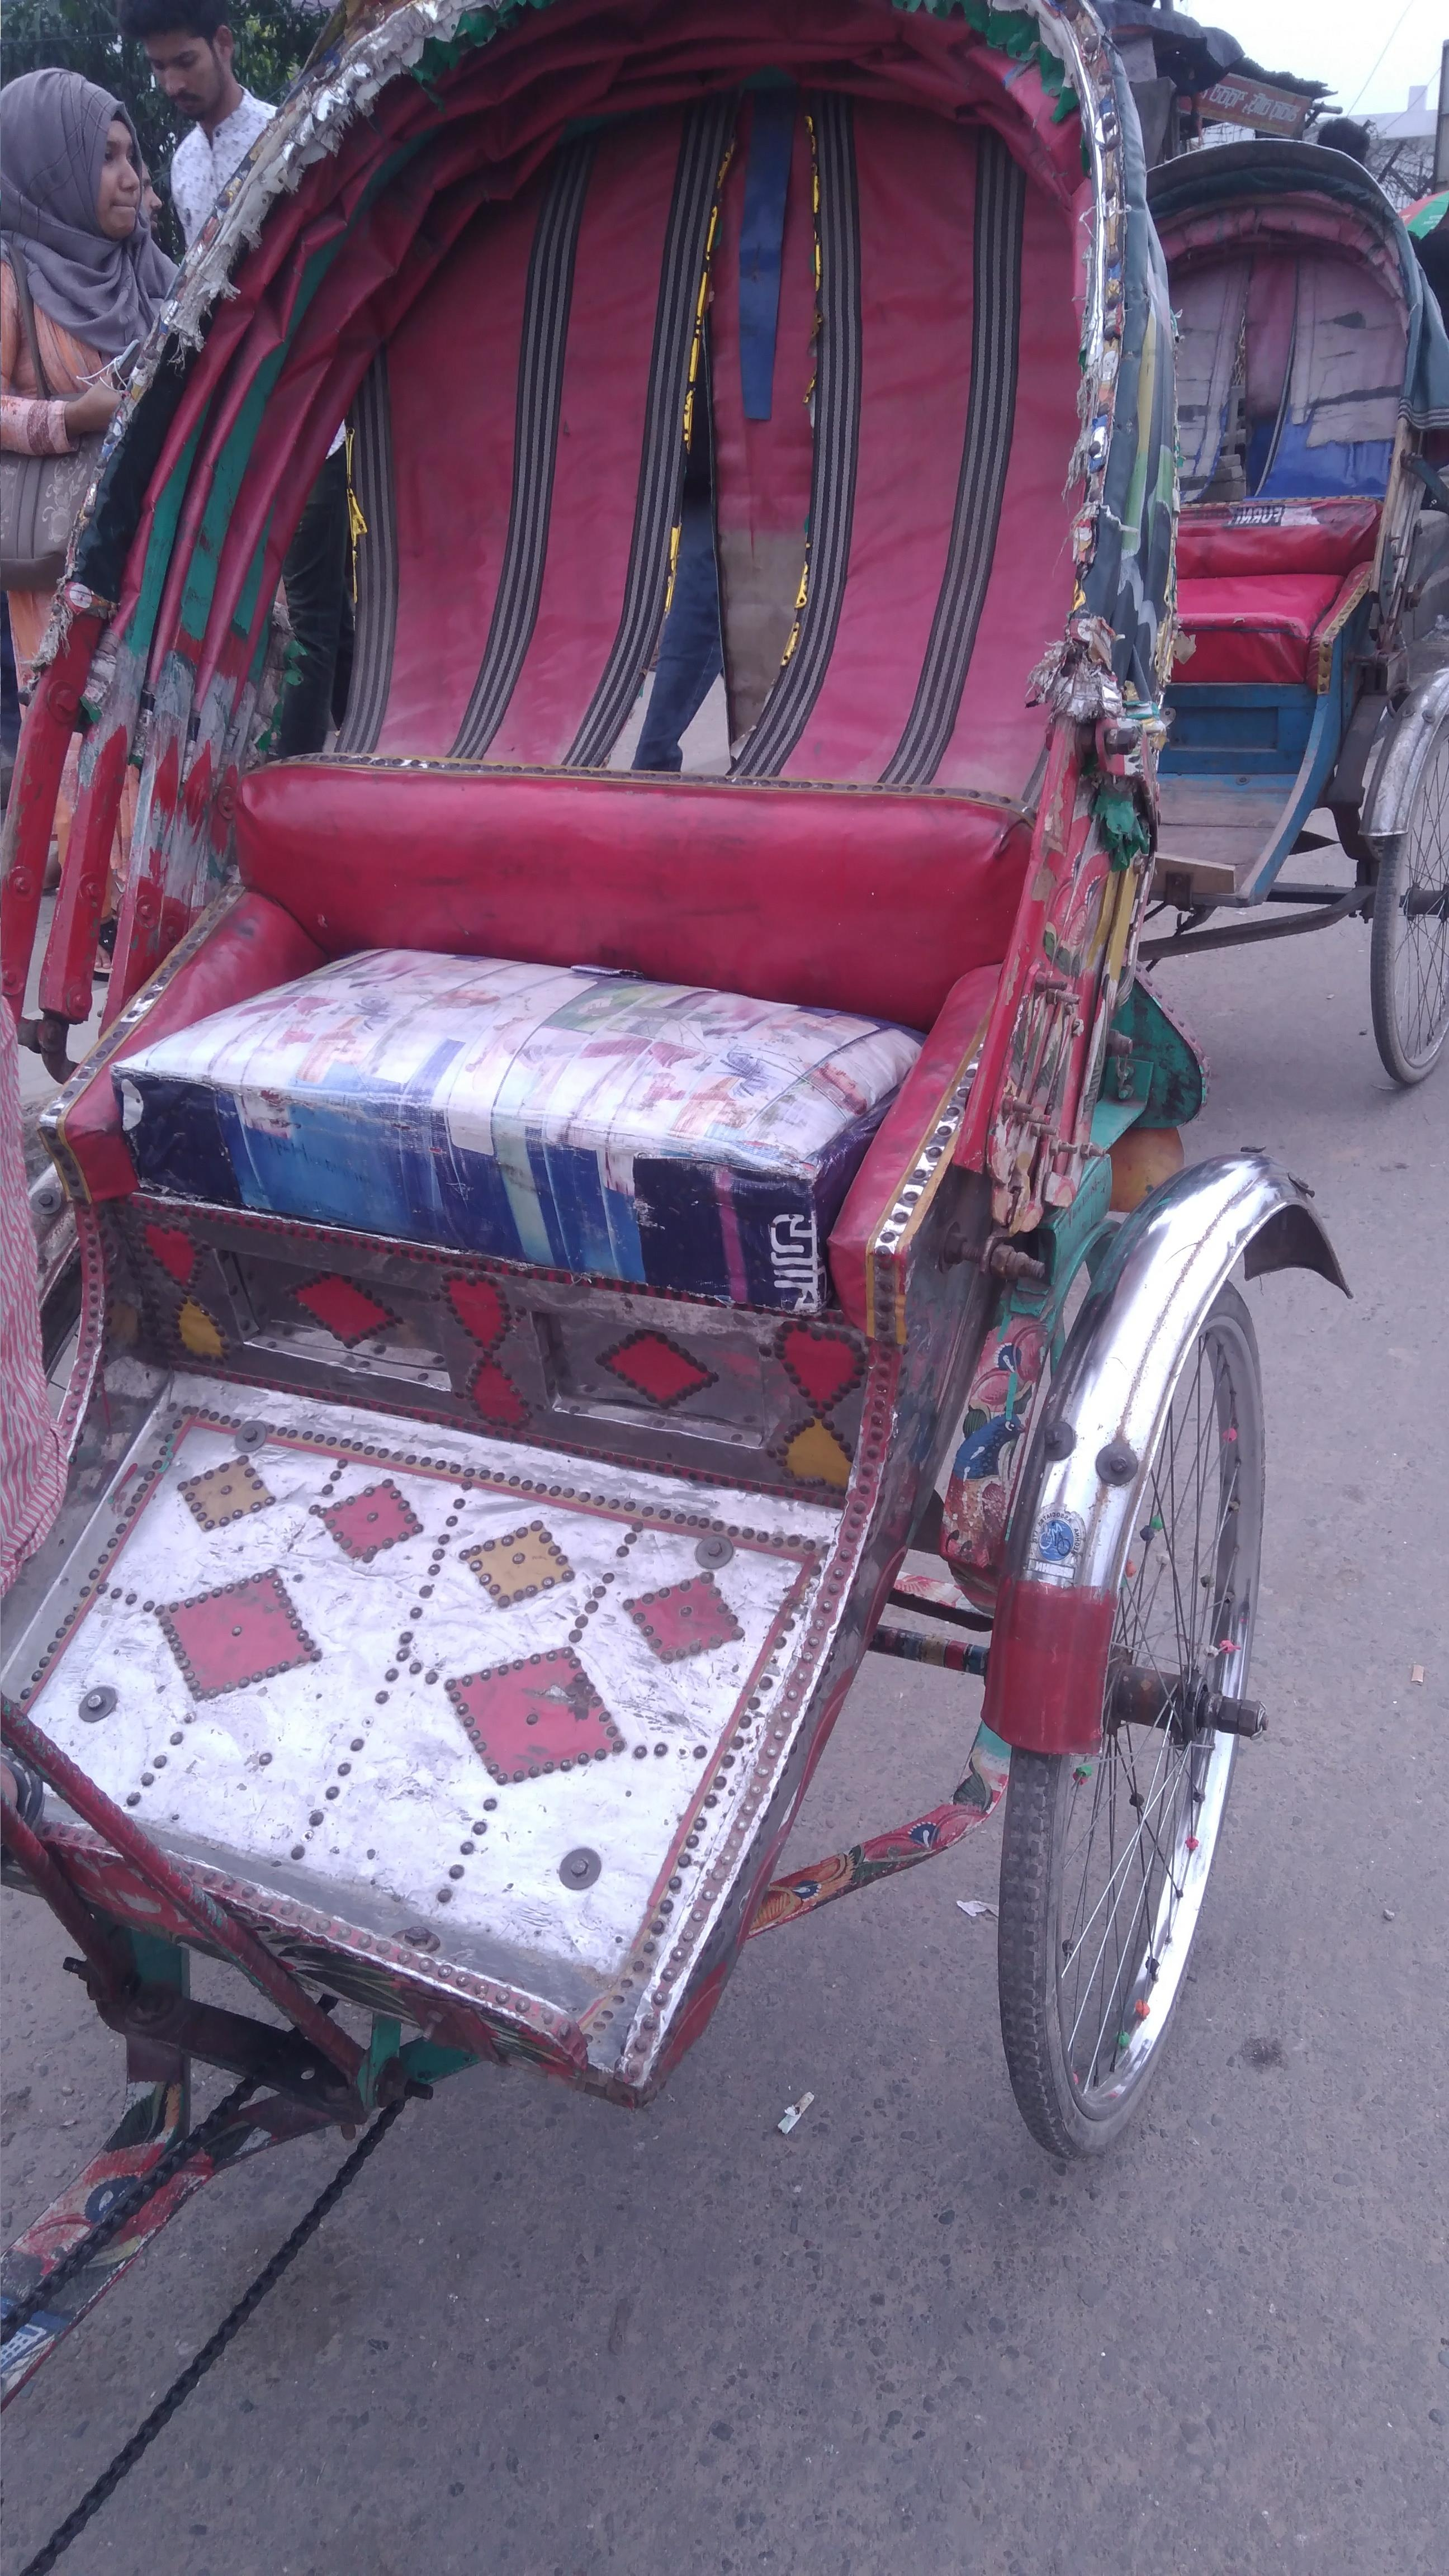Rickshaw: (7, 14, 1230, 2150), (1097, 127, 1444, 1072)
